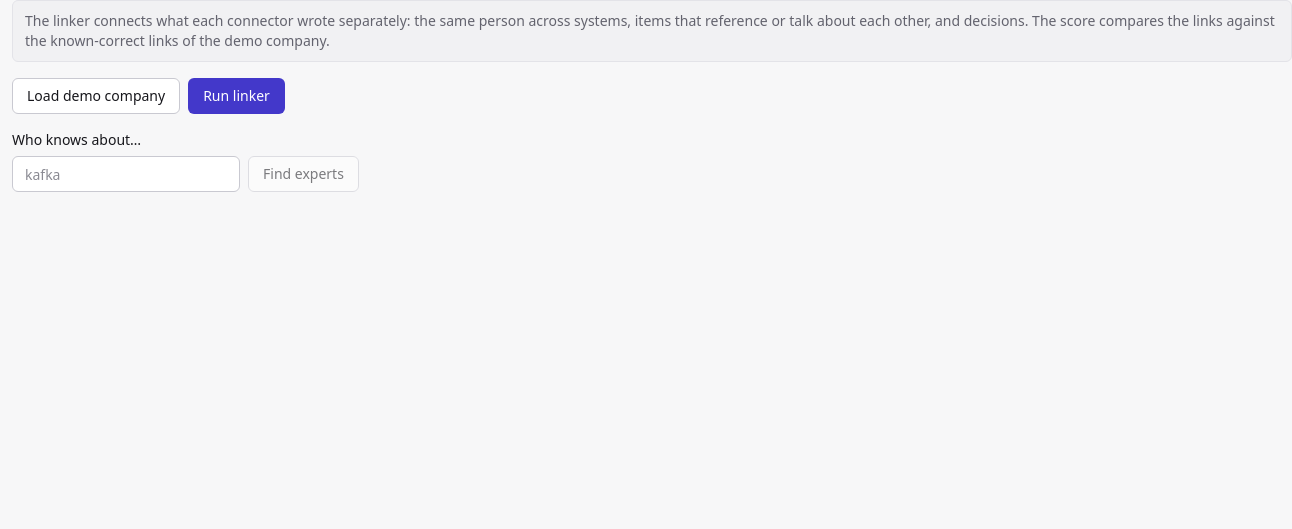
Test: LinkingPanel › loads the demo company, runs the linker and shows the score
This screenshot has width=1292, height=529.
Click the button "Load demo company".
click(96, 96)  # box [12,78,180,114]
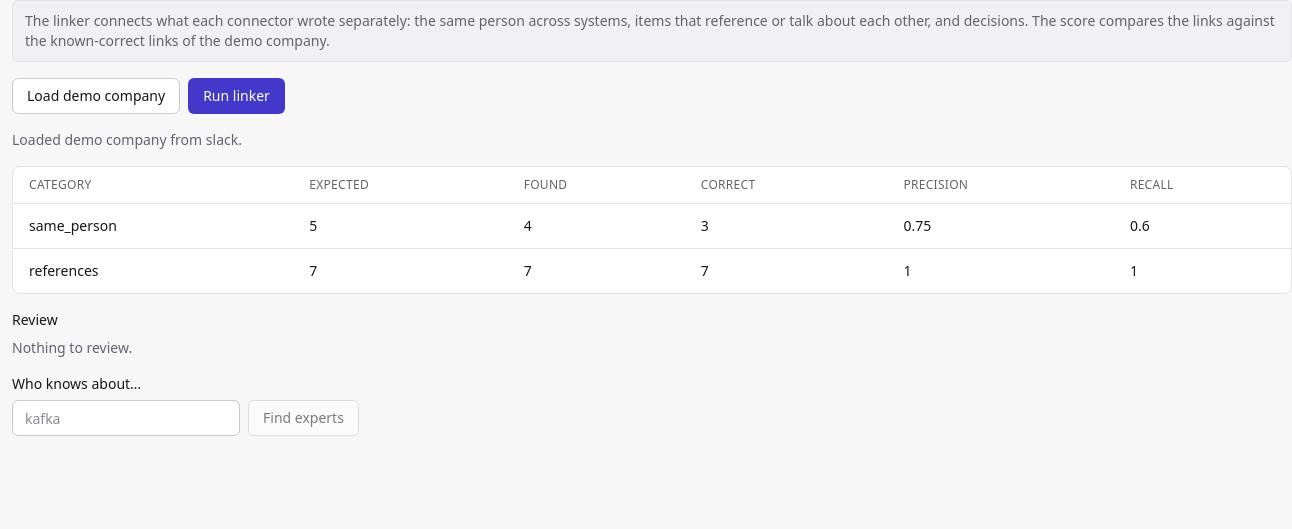
Result: the text "Loaded demo company from slack." is shown at [12,130,242,149]
Click the button "Run linker".
click(237, 96)  # box [188,78,285,114]
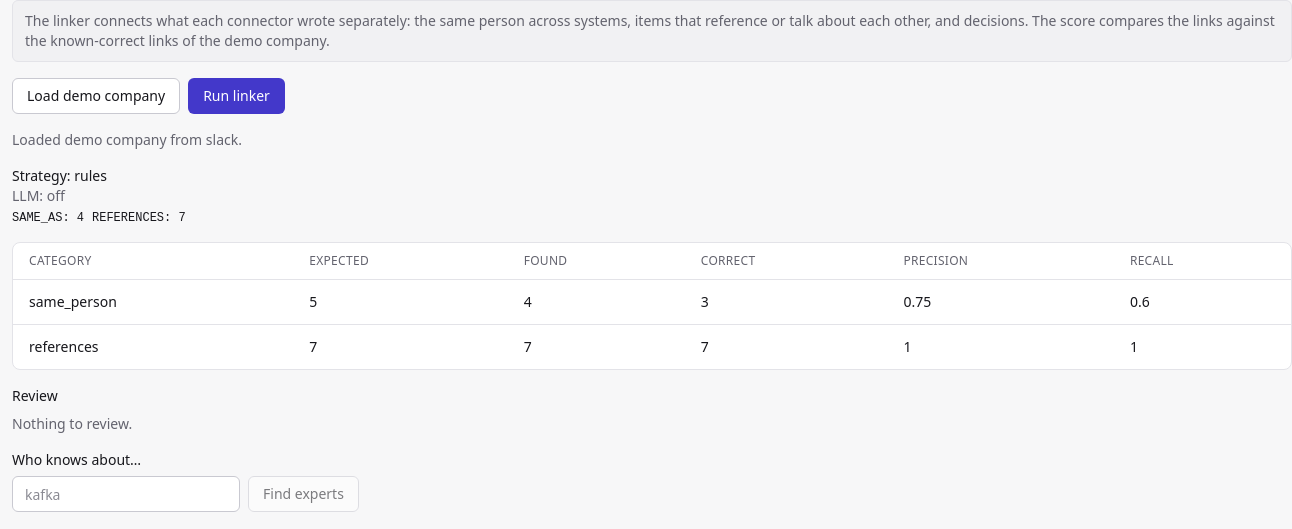
Result: the text "Strategy: rules" is shown at [12,166,107,185]
Result: the list item "SAME_AS: 4" is shown at [12,210,84,226]
Result: the text "LLM: off" is shown at [12,186,65,205]
